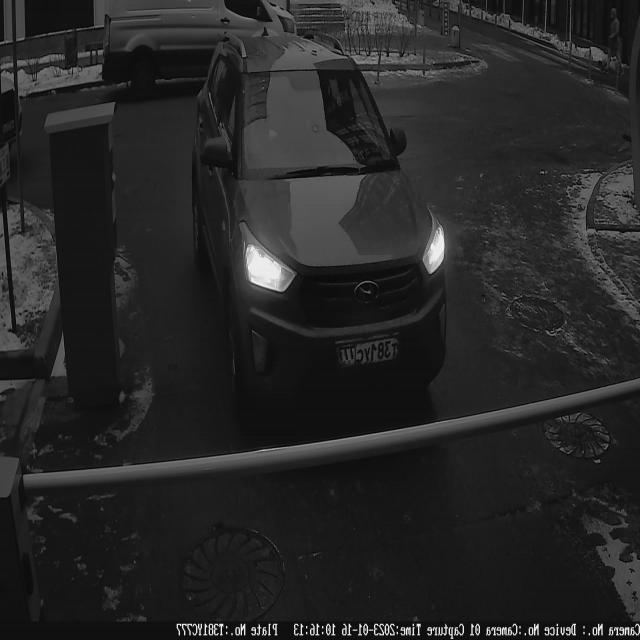car-plate-numbers: (333, 330, 405, 376)
